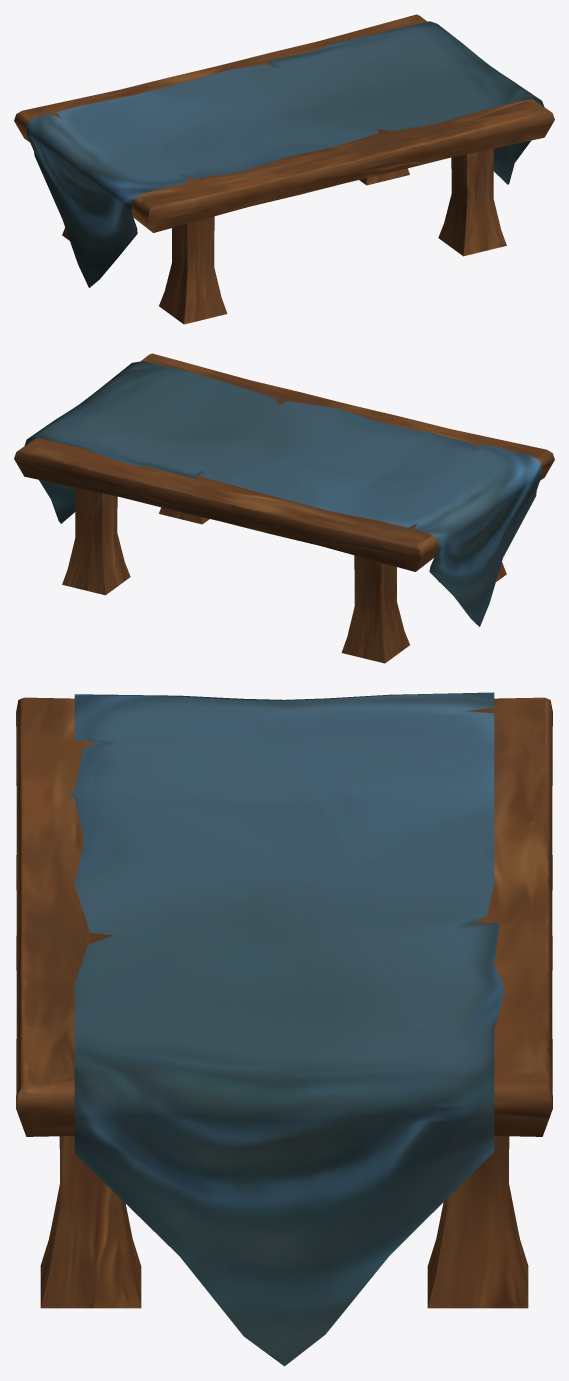
File: table.glb
3 views of the same model, one above another, from view 1: azimuth 30°, elevation 25°; view 2: azimuth 150°, elevation 25°; view 3: azimuth 270°, elevation 25° (orthographic). The views are drawn at different scales.
Visible parts, largest first — view 1: pCube9; view 2: pCube9; view 3: pCube9.
Part boxes in pixels (<box>): pCube9: <box>14,14,554,324</box>; pCube9: <box>14,353,554,663</box>; pCube9: <box>16,692,552,1366</box>.
Size of the model in its own units: 15.36 by 4.56 by 8.32.
1 material, 1 textured.
